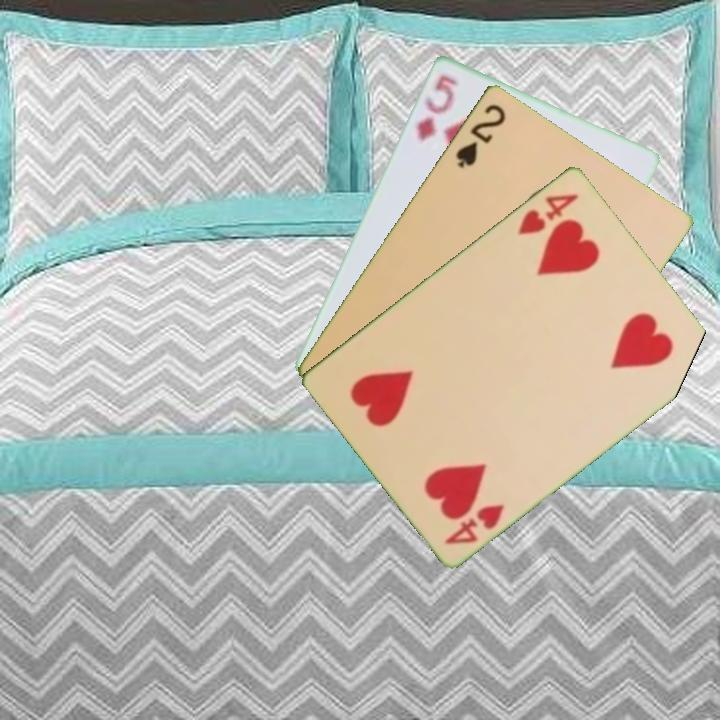2s: (451, 99, 509, 171)
4h: (515, 189, 581, 238), (441, 499, 508, 547)
5d: (413, 71, 462, 144)
